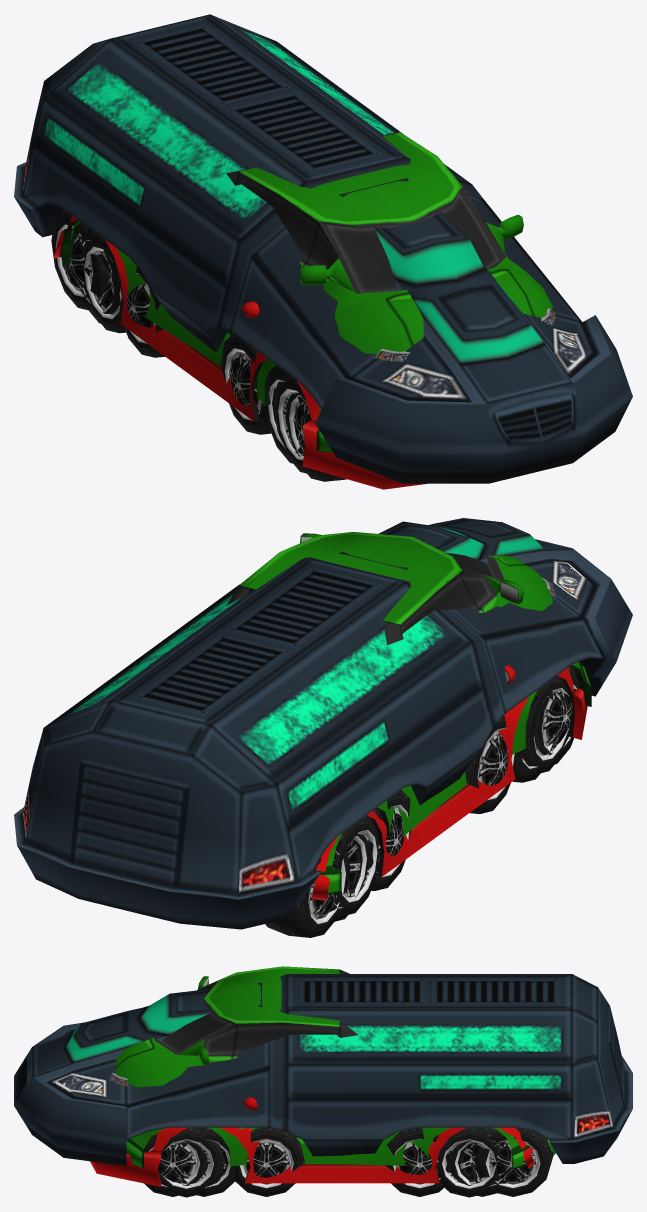
File: vehicles_mesh.fbx
3 views of the same model, one above another, from view 1: azimuth 30°, elevation 25°; view 2: azimuth 150°, elevation 25°; view 3: azimuth 270°, elevation 25° (orthographic). The views are drawn at different scales.
Visible parts, largest first — view 1: WarpathAPC, IronhideTruck, ProwlCar; view 2: WarpathAPC, IronhideTruck, ProwlCar; view 3: WarpathAPC, IronhideTruck, ProwlCar.
Part boxes in pixels (x1,y1,x2,y2): WarpathAPC: [14, 14, 632, 483]; IronhideTruck: [62, 132, 555, 475]; ProwlCar: [54, 215, 427, 489]; WarpathAPC: [14, 518, 632, 937]; IronhideTruck: [226, 532, 591, 916]; ProwlCar: [311, 665, 587, 921]; WarpathAPC: [14, 974, 632, 1196]; IronhideTruck: [110, 966, 555, 1197]; ProwlCar: [90, 1097, 534, 1196].
Size of the model in its own units: 394 by 280 by 961.
